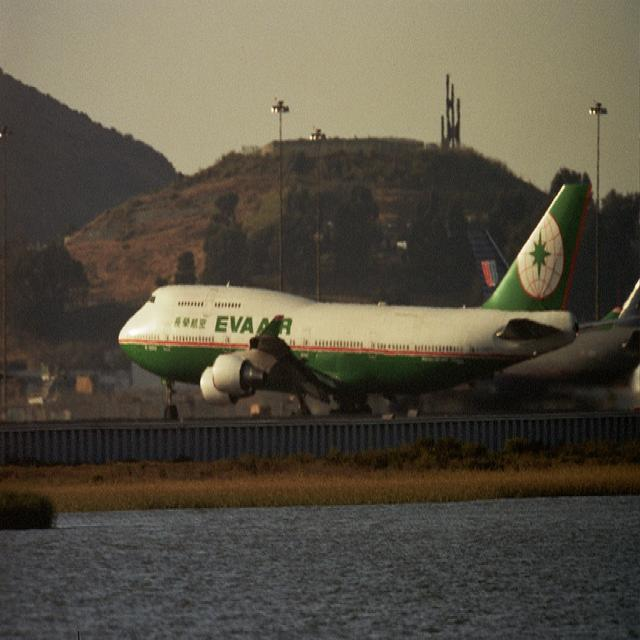airplane: (117, 180, 587, 422), (466, 220, 640, 400)
